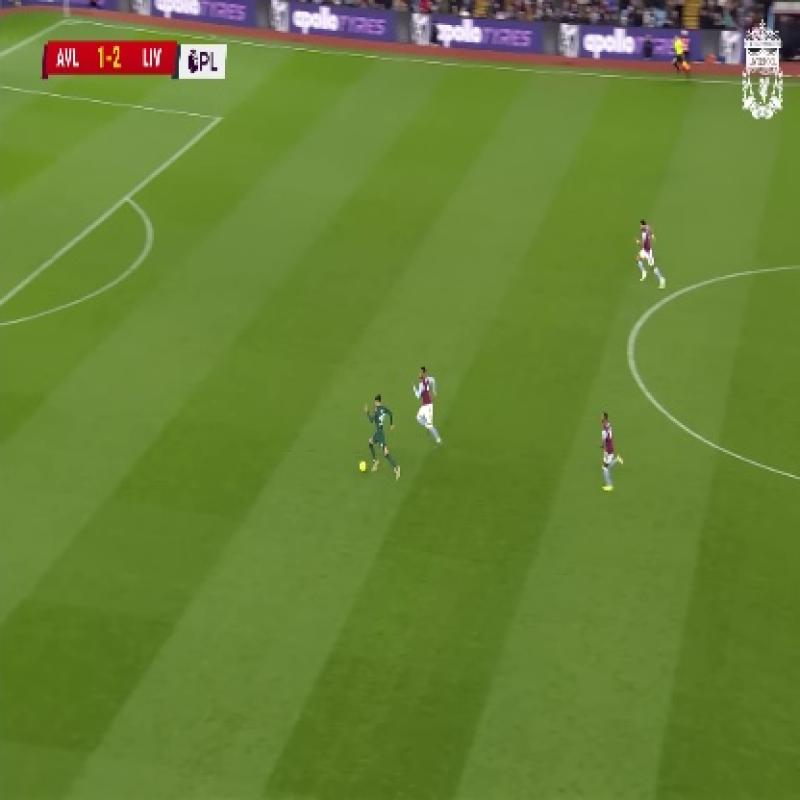1: (56, 8, 81, 29)
10: (116, 182, 136, 209)
9: (208, 104, 229, 131)
c: (610, 321, 654, 364)
